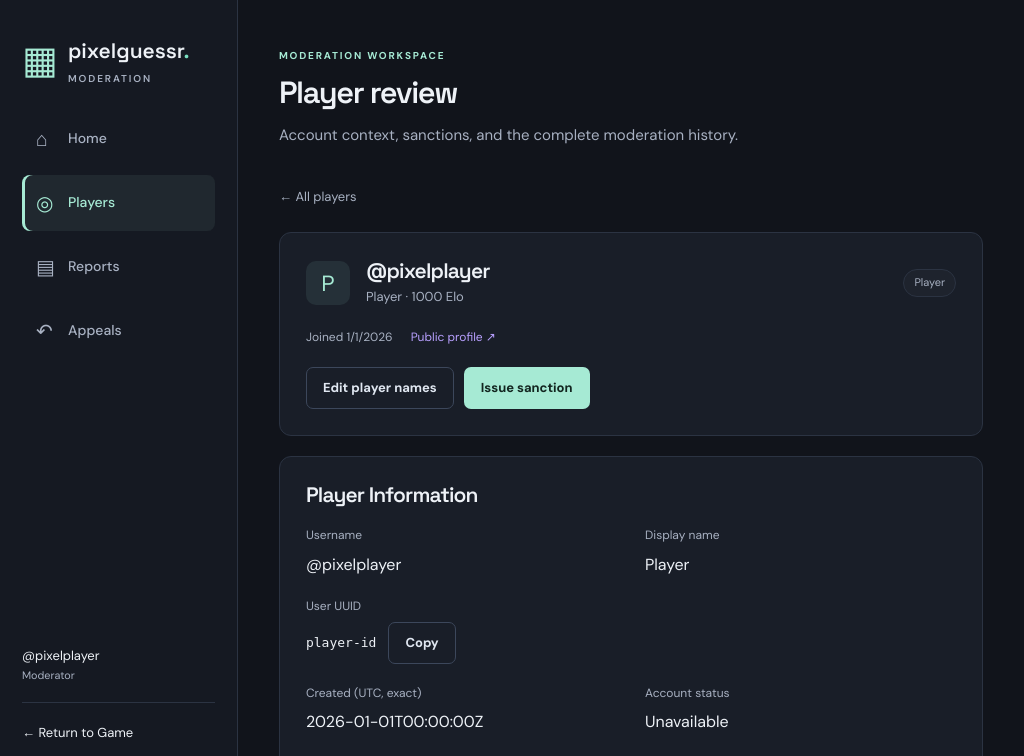
Test: edits only changed names and refreshes stable player details: {"display_name":""}
Click the button "Edit player names" at (380, 388), box [306,367,454,409]
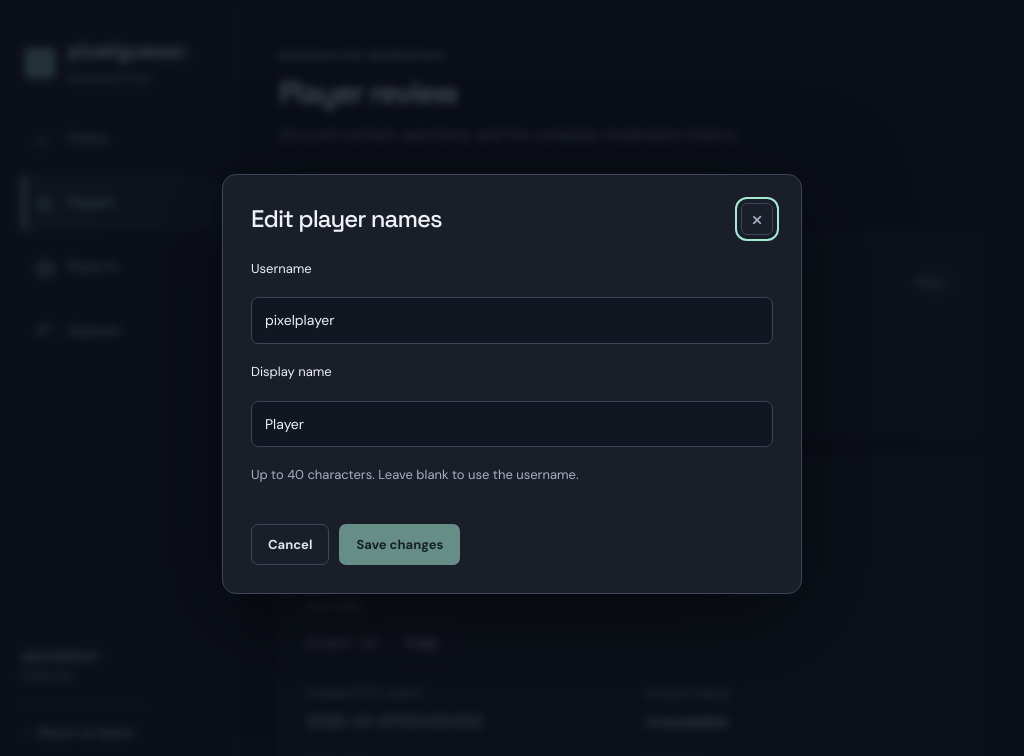
expect the field labelled "Username" holds "pixelplayer": met, box [251,298,773,344]
expect the field labelled "Display name" holds "Player": met, box [251,401,773,447]
expect the button "Save changes" is disabled: met, box [339,524,460,565]
Submit the form named "Save changes", box [251,259,773,565]
Clear the field labelled "Display name" at (512, 424), box [251,401,773,447]
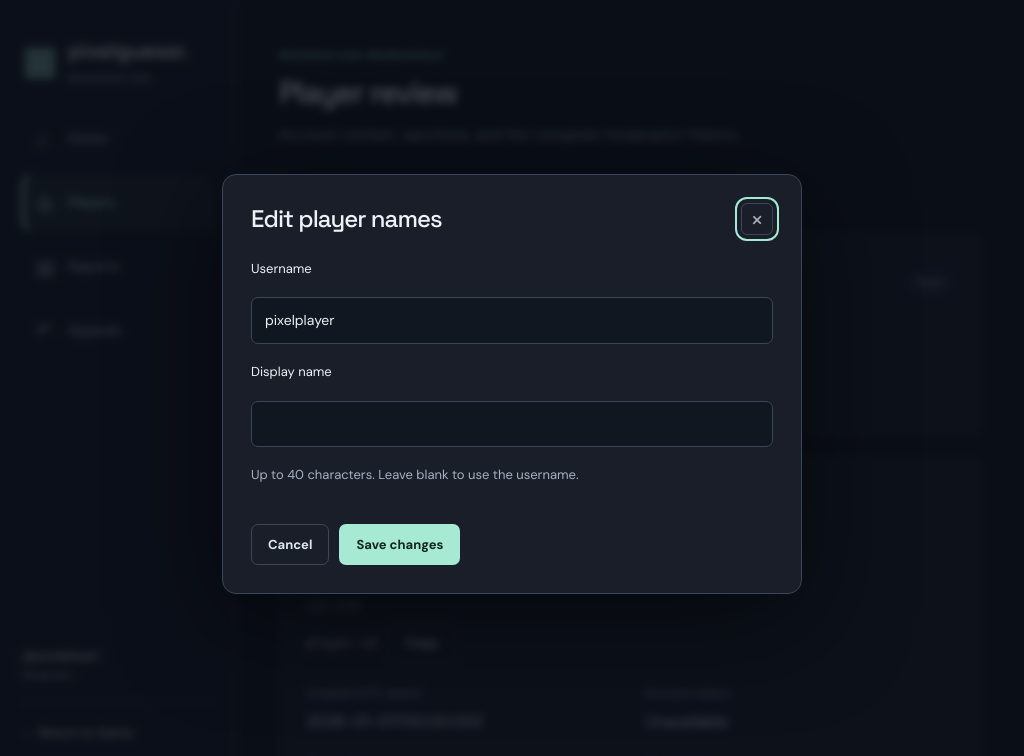
Click the button "Save changes" at (400, 545), box [339,524,460,565]
(page scrolled)
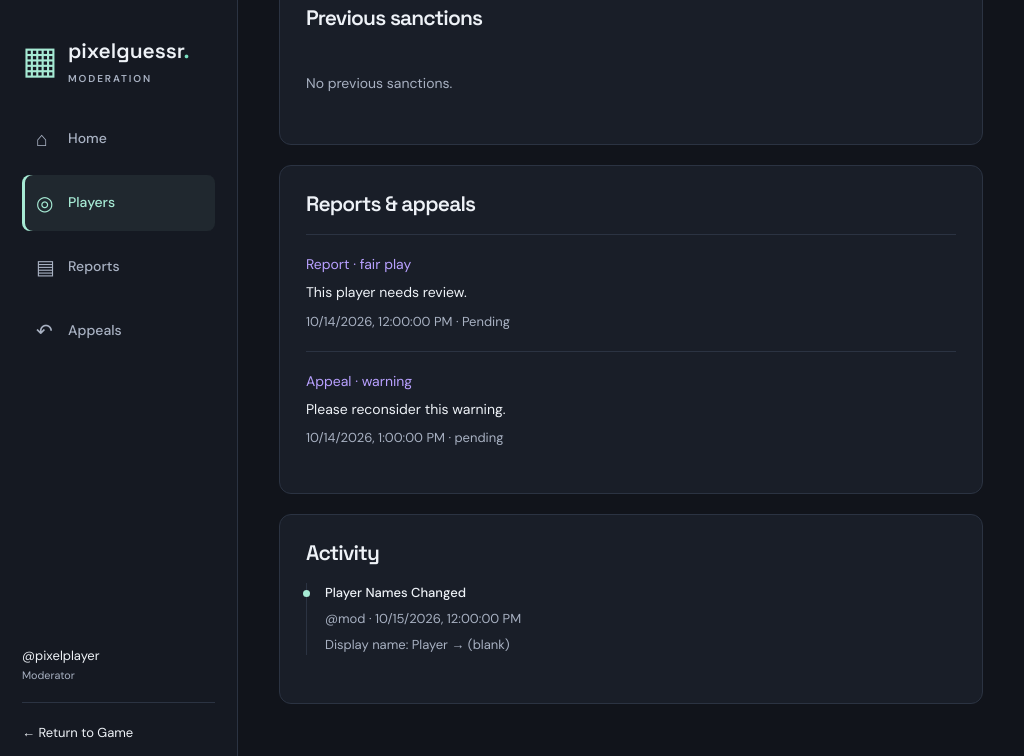
expect the dialog is gone: met
expect the text "player names changed" is shown: met, box [325,584,466,601]
